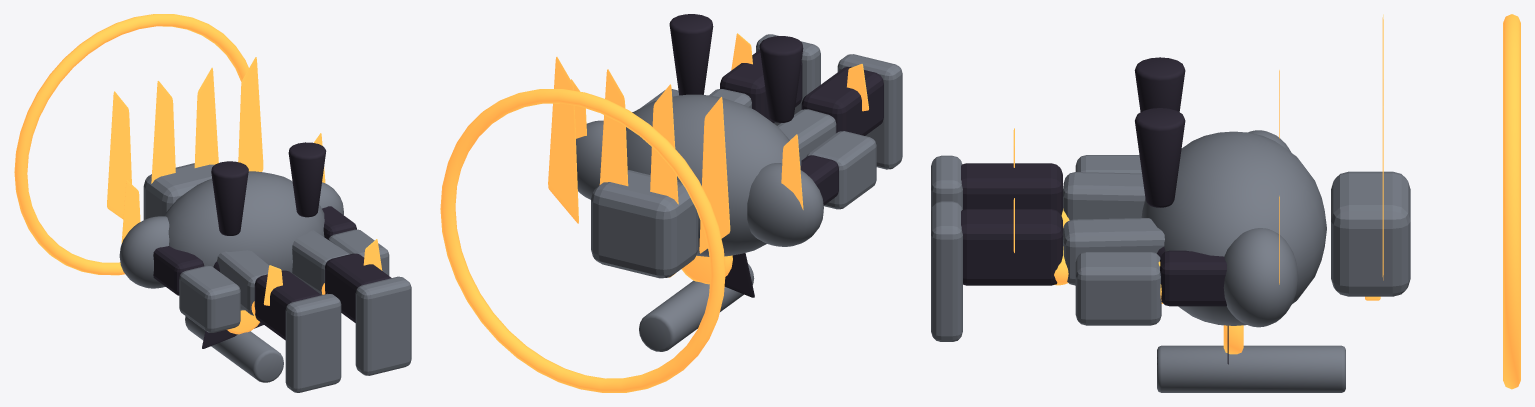
The model's file is boss_orbital_enemy.glb.
The picture shows the model from 3 angles, left to right: view 1: azimuth 30°, elevation 25°; view 2: azimuth 150°, elevation 25°; view 3: azimuth 270°, elevation 25°; orthographic projection. The views are drawn at different scales.
Parts seen in each view (by area): view 1: torso, boss-halo, foot.001, foot, forearm, shoulder-shell, enemy-cannon, boss-banner0, enemy-thruster.001, enemy-thruster, lower-leg.001, boss-banner3 (+15 smaller); view 2: boss-halo, torso, head, shoulder-shell, lower-leg, enemy-cannon, boss-banner3, forearm, foot, enemy-thruster, boss-banner0, enemy-thruster.001 (+14 smaller); view 3: torso, head, enemy-cannon, lower-leg.001, boss-halo, forearm.001, shoulder-shell.001, lower-leg, foot.001, enemy-thruster.001, upper-leg, upper-leg.001 (+5 smaller).
Boxes of the visible parts, box(x1,y1,x2,y2) form: torso: box(164, 171, 324, 310); boss-halo: box(14, 14, 248, 275); foot.001: box(355, 276, 411, 375); foot: box(285, 293, 341, 392); forearm: box(179, 265, 240, 332); shoulder-shell: box(119, 216, 169, 288); enemy-cannon: box(185, 316, 283, 382); boss-banner0: box(107, 91, 131, 219); enemy-thruster.001: box(288, 142, 326, 217); enemy-thruster: box(211, 161, 248, 235); lower-leg.001: box(325, 253, 391, 322); boss-banner3: box(238, 57, 263, 171); boss-halo: box(440, 89, 725, 392); torso: box(626, 94, 801, 256); head: box(591, 170, 698, 278); shoulder-shell: box(747, 163, 823, 246); lower-leg: box(801, 66, 883, 135); enemy-cannon: box(639, 264, 754, 351); boss-banner3: box(548, 57, 578, 223); forearm: box(806, 131, 876, 209); foot: box(837, 54, 902, 169); enemy-thruster: box(759, 36, 803, 122); boss-banner0: box(699, 97, 730, 253); enemy-thruster.001: box(669, 14, 713, 95); torso: box(1141, 131, 1326, 325); head: box(1331, 171, 1410, 296); enemy-cannon: box(1157, 345, 1345, 392); lower-leg.001: box(961, 209, 1062, 285); boss-halo: box(1503, 14, 1520, 389); forearm.001: box(1075, 252, 1161, 325); shoulder-shell.001: box(1223, 228, 1298, 327); lower-leg: box(961, 163, 1062, 214); foot.001: box(931, 201, 962, 341); enemy-thruster.001: box(1135, 108, 1185, 207); upper-leg: box(1063, 172, 1145, 220); upper-leg.001: box(1063, 218, 1164, 285).
Bounding box in the file's own units: 3.12 × 3.29 × 4.9.
